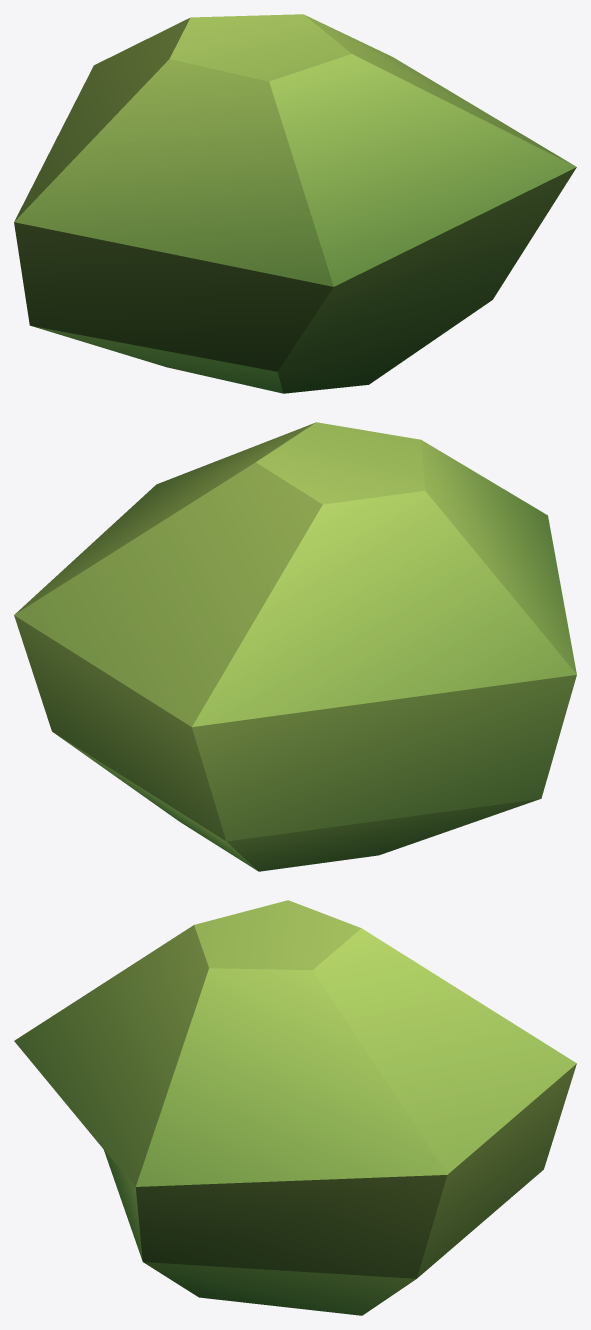
Rendered from Bush_03.fbx.
The picture shows the model from 3 angles, top to bottom: view 1: azimuth 30°, elevation 25°; view 2: azimuth 150°, elevation 25°; view 3: azimuth 270°, elevation 25°; orthographic projection. The views are drawn at different scales.
Parts seen in each view (by area): view 1: Bush_03_Mesh; view 2: Bush_03_Mesh; view 3: Bush_03_Mesh.
Part boxes in pixels (bbox=[...]): Bush_03_Mesh: bbox=[14, 14, 576, 393]; Bush_03_Mesh: bbox=[14, 422, 576, 871]; Bush_03_Mesh: bbox=[14, 900, 576, 1315].
Size of the model in its own units: 301 by 198 by 313.
